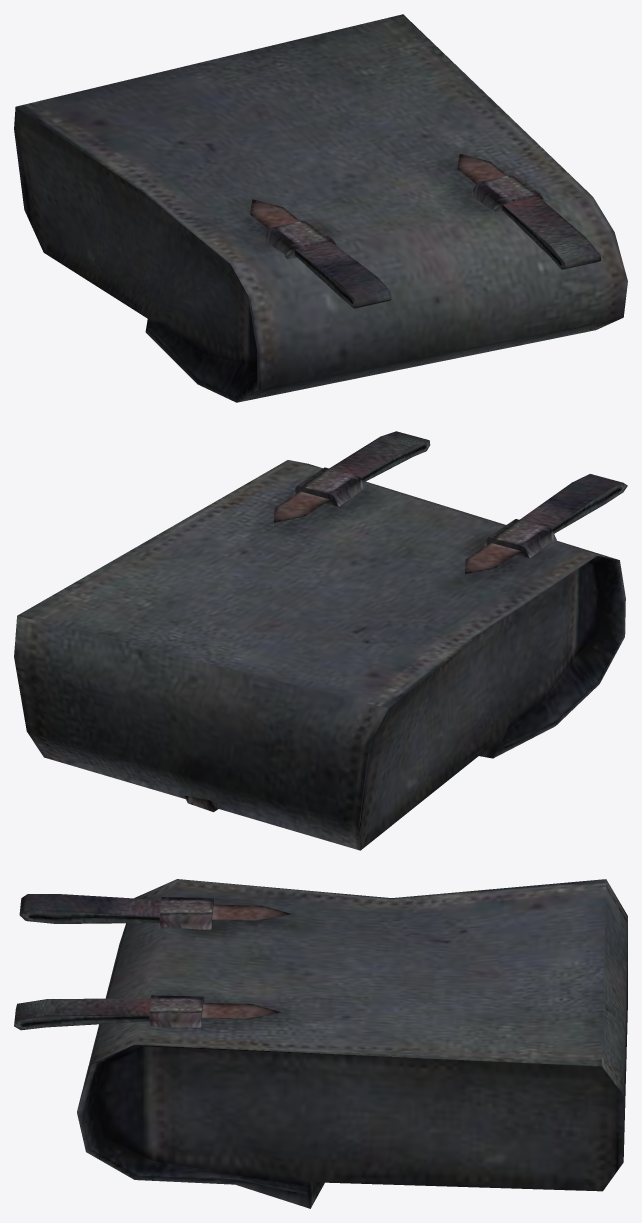
Rendered from prop_map_case_1.glb.
The picture shows the model from 3 angles, top to bottom: view 1: azimuth 30°, elevation 25°; view 2: azimuth 150°, elevation 25°; view 3: azimuth 270°, elevation 25°; orthographic projection. The views are drawn at different scales.
Bounding box in the file's own units: 11.2 × 4.78 × 15.43.
Materials: 1 (1 with a texture image).
